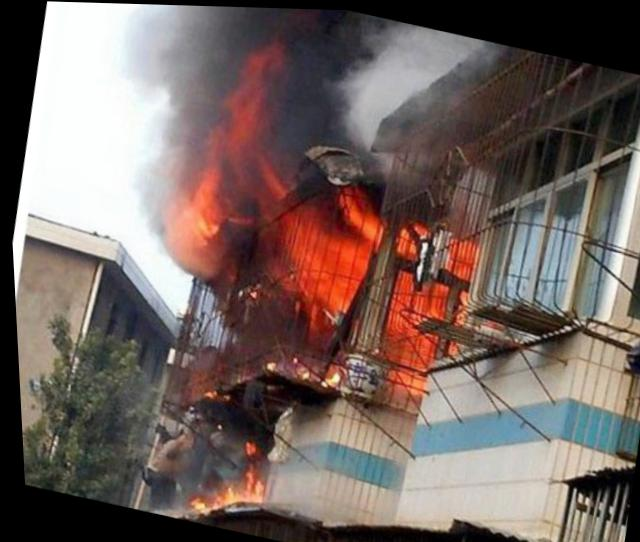fire: (272, 204, 367, 309), (377, 268, 447, 367), (214, 62, 276, 169), (164, 164, 231, 263), (331, 182, 386, 239), (209, 474, 258, 504), (377, 359, 420, 392), (441, 231, 475, 272), (389, 224, 422, 255), (178, 487, 206, 513), (236, 435, 251, 456), (234, 463, 249, 480)
